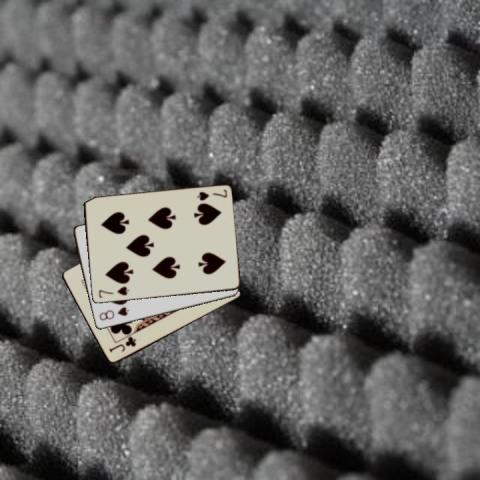7s: (95, 284, 130, 299), (194, 187, 228, 202)
8s: (96, 304, 131, 322)
Jc: (107, 334, 137, 354)
